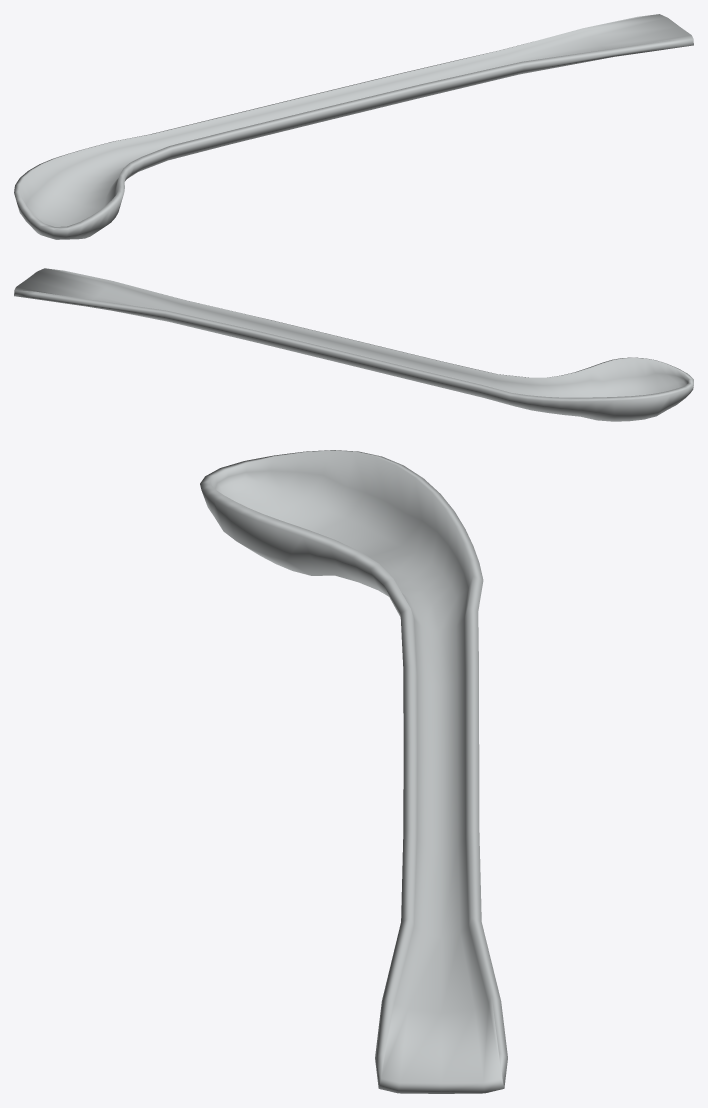
File: Spoon.gltf
3 renders of one model, top to bottom at view 1: azimuth 30°, elevation 25°; view 2: azimuth 150°, elevation 25°; view 3: azimuth 270°, elevation 25°, orthographic. The views are drawn at different scales.
Parts seen in each view (by area): view 1: Plane.003; view 2: Plane.003; view 3: Plane.003.
Part boxes in pixels (x1,y1,x2,y2): Plane.003: (14, 14, 693, 239); Plane.003: (14, 268, 693, 421); Plane.003: (200, 450, 507, 1093).
Size of the model in its own units: 0.195 by 0.0107 by 0.042.
Materials: 1 (1 with a texture image).
